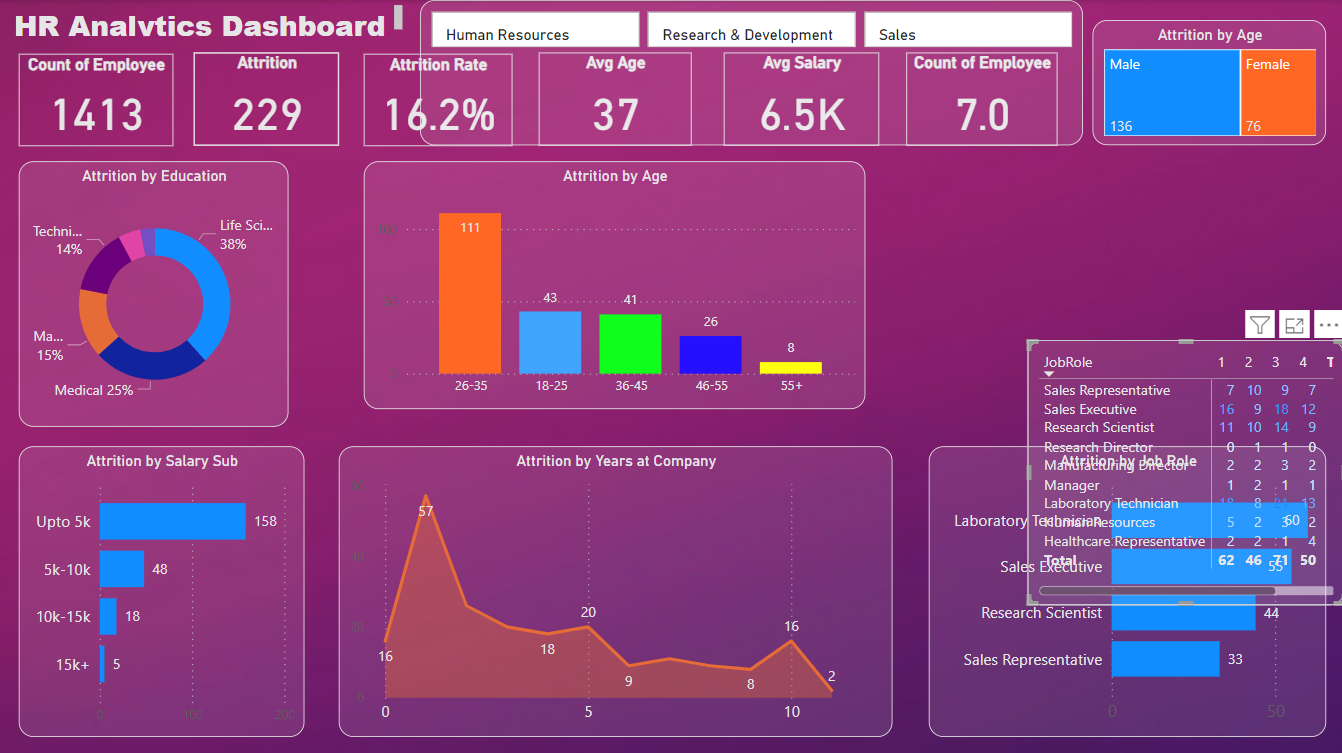

What the dashboard file says about the page in this screenshot:
{"tool":"powerbi","page":{"name":"Page 1","canvas":[1280,720],"ordinal":0},"visuals":[{"type":"card","title":"Count of Employee","fields":{"Values":["CountNonNull(HR_Analytics.EmpID)"]},"box":[17.8,50.8,146.8,87.8],"z":0},{"type":"card","title":"Attrition","fields":{"Values":["Sum(HR_Analytics.AttritionCount)"]},"box":[183.9,49.4,138.6,89.2],"z":1000},{"type":"card","title":"Attrition Rate","fields":{"Values":["HR_Analytics.AttritionRate"]},"box":[345.8,50.8,141.3,87.8],"z":2000},{"type":"card","title":"Avg Age","fields":{"Values":["Avg(HR_Analytics.Age)"]},"box":[513.2,49.4,145.5,89.2],"z":3000},{"type":"card","title":"Avg Salary","fields":{"Values":["Avg(HR_Analytics.MonthlyIncome)"]},"box":[688.9,49.4,148.2,89.2],"z":4000},{"type":"card","title":"Count of Employee","fields":{"Values":["Avg(HR_Analytics.YearsAtCompany)"]},"box":[863.1,49.4,144.1,89.2],"z":5000},{"type":"donutChart","title":"Attrition by Education","fields":{"Category":["HR_Analytics.EducationField"],"Y":["Sum(HR_Analytics.AttritionCount)"]},"box":[17.8,153.7,256.6,252.5],"z":6000},{"type":"columnChart","title":"Attrition by Age","fields":{"Category":["HR_Analytics.AgeGroup"],"Y":["Sum(HR_Analytics.AttritionCount)"]},"box":[345.8,153.7,477.5,236],"z":7000},{"type":"pivotTable","fields":{"Rows":["HR_Analytics.JobRole"],"Columns":["HR_Analytics.JobSatisfaction"],"Values":["Sum(HR_Analytics.AttritionCount)"]},"box":[960.6,153.7,301.9,252.5],"z":8000},{"type":"barChart","title":"Attrition by Salary Sub","fields":{"Category":["HR_Analytics.SalarySlab"],"Y":["Sum(HR_Analytics.AttritionCount)"]},"box":[17.8,425.4,271.7,277.2],"z":9000},{"type":"barChart","title":"Attrition by Job Role","fields":{"Category":["HR_Analytics.JobRole"],"Y":["Sum(HR_Analytics.AttritionCount)"]},"box":[883.7,425.4,378.7,277.2],"z":10000},{"type":"areaChart","title":"Attrition by Years at Company","fields":{"Category":["HR_Analytics.YearsAtCompany"],"Y":["Sum(HR_Analytics.AttritionCount)"]},"box":[322.5,425.4,526.9,277.2],"z":11000},{"type":"treemap","title":"Attrition by Age","fields":{"Group":["HR_Analytics.Gender"],"Values":["Sum(HR_Analytics.AttritionCount)"]},"box":[1040.1,19.2,222.3,119.4],"z":12000},{"type":"advancedSlicerVisual","fields":{"Values":["HR_Analytics.Department"]},"box":[399.3,0,631.2,138.6],"z":13000},{"type":"textbox","box":[0,0,388.3,39.8],"z":14000}]}

Visuals, with their boxes in screenshot pixels (x1, y1, x2, y2), scaled from the page's 1280x720 canvas onto the 1342x753 screenshot:
"Count of Employee" card: locate(19, 53, 173, 145)
"Attrition" card: locate(193, 52, 338, 145)
"Attrition Rate" card: locate(363, 53, 511, 145)
"Avg Age" card: locate(538, 52, 691, 145)
"Avg Salary" card: locate(722, 52, 878, 145)
"Count of Employee" card: locate(905, 52, 1056, 145)
"Attrition by Education" donutChart: locate(19, 161, 288, 425)
"Attrition by Age" columnChart: locate(363, 161, 863, 408)
pivotTable - HR_Analytics.JobRole x HR_Analytics.JobSatisfaction: locate(1007, 161, 1324, 425)
"Attrition by Salary Sub" barChart: locate(19, 445, 304, 735)
"Attrition by Job Role" barChart: locate(927, 445, 1324, 735)
"Attrition by Years at Company" areaChart: locate(338, 445, 891, 735)
"Attrition by Age" treemap: locate(1090, 20, 1324, 145)
advancedSlicerVisual - HR_Analytics.Department: locate(419, 0, 1080, 145)
textbox: locate(0, 0, 407, 42)
